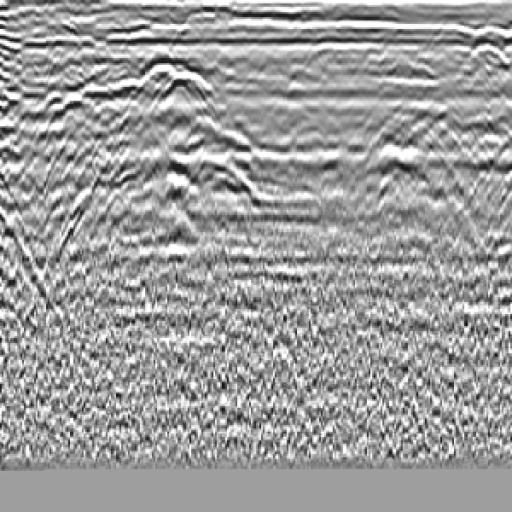metalic: (124, 47, 222, 137)
